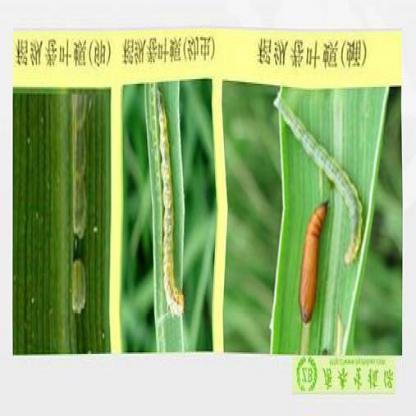leaf-folder: (267, 85, 366, 334), (144, 86, 199, 322), (58, 90, 98, 309)
